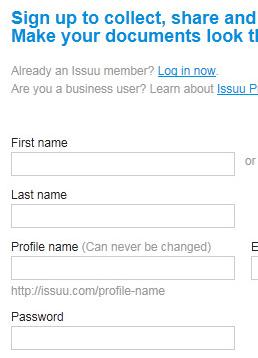field: (5, 202, 236, 229), (8, 150, 235, 177), (7, 254, 236, 280), (9, 325, 235, 350)
field_with_label: (1, 187, 238, 231), (6, 136, 237, 179), (4, 240, 238, 282), (6, 310, 237, 352)
